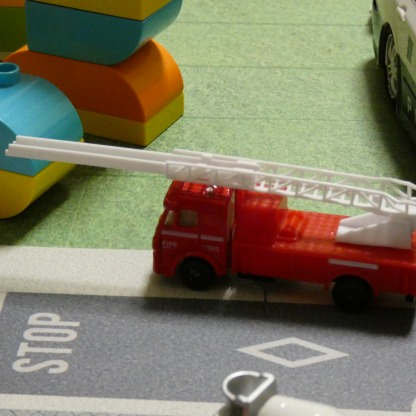car: (138, 174, 416, 303), (369, 0, 416, 147)
